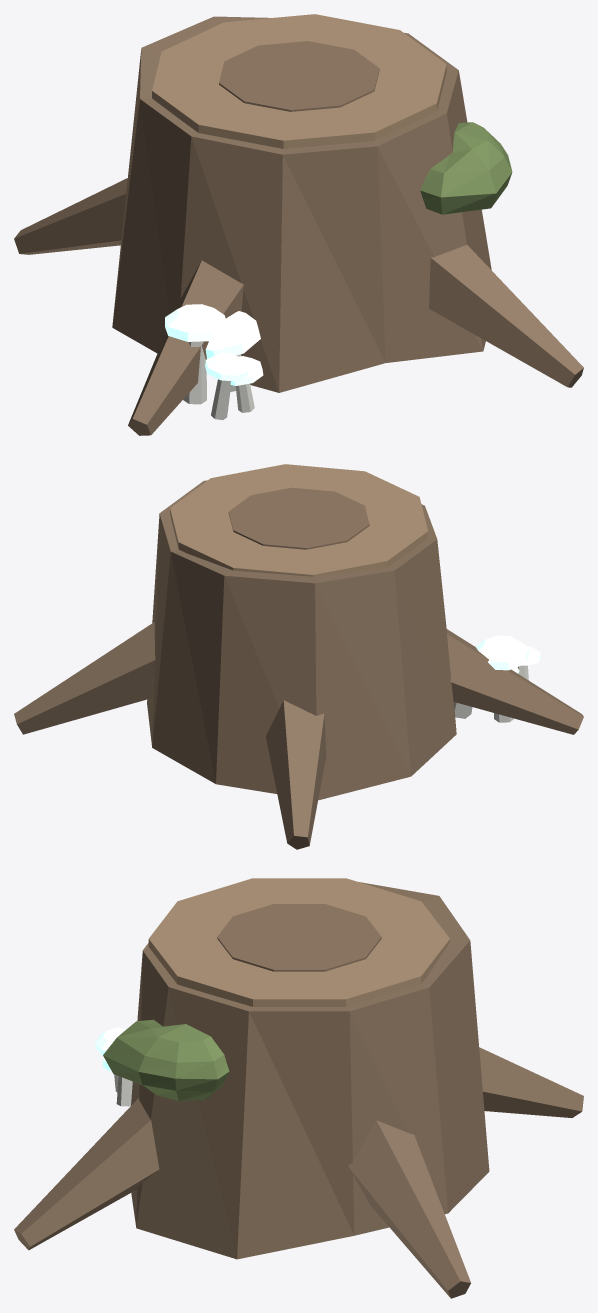
File: stump.glb
The picture shows the model from 3 angles, top to bottom: view 1: azimuth 30°, elevation 25°; view 2: azimuth 150°, elevation 25°; view 3: azimuth 270°, elevation 25°; orthographic projection. The views are drawn at different scales.
Visible parts, largest first — view 1: stump; view 2: stump; view 3: stump.
Part boxes in pixels (x1=…): stump: x1=14, y1=14, x2=583, y2=435; stump: x1=14, y1=464, x2=583, y2=849; stump: x1=14, y1=878, x2=583, y2=1298.
Size of what is drawn, in the model's own units: 1.25 by 0.5961 by 1.25.
